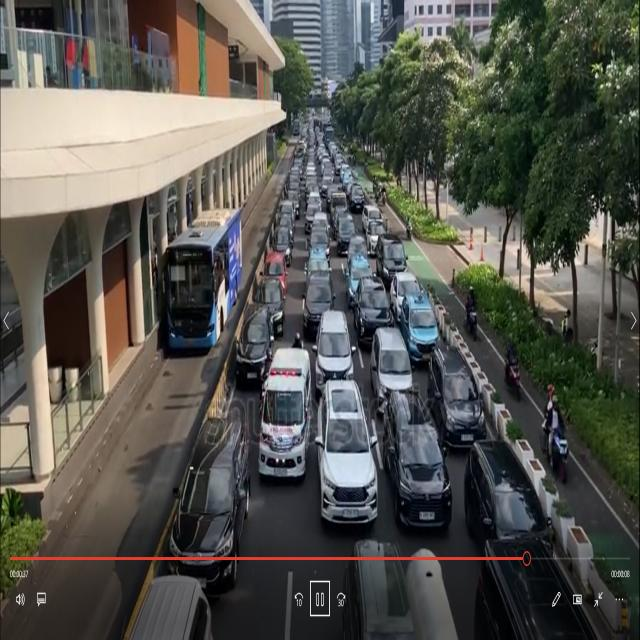Ambulance: (260, 335, 316, 492)
